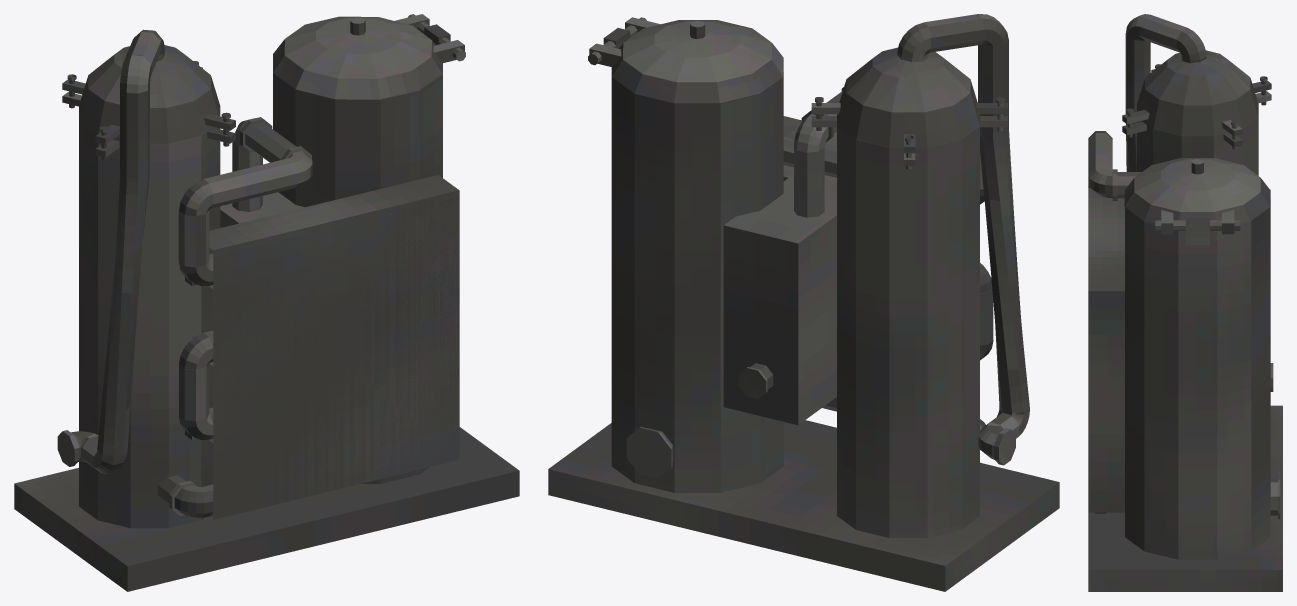
Rendered from gasifier-8-14-scale-1-4.obj.
3 views of the same model, side by side, from view 1: azimuth 30°, elevation 25°; view 2: azimuth 150°, elevation 25°; view 3: azimuth 270°, elevation 25° (orthographic). The views are drawn at different scales.
Parts seen in each view (by area): view 1: pipe-cover_blue, gas-filter_blue, firebox_blue, gasifier-base_blue, piping2_, piping1_blue, condenser_blue; view 2: gas-filter_blue, firebox_blue, gasifier-base_blue, condenser_blue, piping2_, piping1_blue, pipe-cover_blue; view 3: firebox_blue, gas-filter_blue, pipe-cover_blue, gasifier-base_blue, piping2_, piping1_blue.
Part boxes in pixels (<box>): pipe-cover_blue: <box>185,175,459,519</box>; gas-filter_blue: <box>62,45,235,528</box>; firebox_blue: <box>273,14,465,483</box>; gasifier-base_blue: <box>14,427,519,591</box>; piping2_: <box>57,29,164,474</box>; piping1_blue: <box>174,117,312,517</box>; condenser_blue: <box>220,192,329,248</box>; gas-filter_blue: <box>811,47,1007,537</box>; firebox_blue: <box>588,17,783,492</box>; gasifier-base_blue: <box>548,420,1059,591</box>; condenser_blue: <box>723,174,836,424</box>; piping2_: <box>897,14,1029,465</box>; piping1_blue: <box>783,87,993,427</box>; pipe-cover_blue: <box>783,116,836,182</box>; firebox_blue: <box>1124,158,1280,559</box>; gas-filter_blue: <box>1122,50,1271,175</box>; pipe-cover_blue: <box>1088,188,1124,512</box>; gasifier-base_blue: <box>1088,405,1282,591</box>; piping2_: <box>1125,14,1206,171</box>; piping1_blue: <box>1088,131,1141,513</box>.
Bounding box in the file's own units: 0.5062 × 0.6094 × 0.2504.
